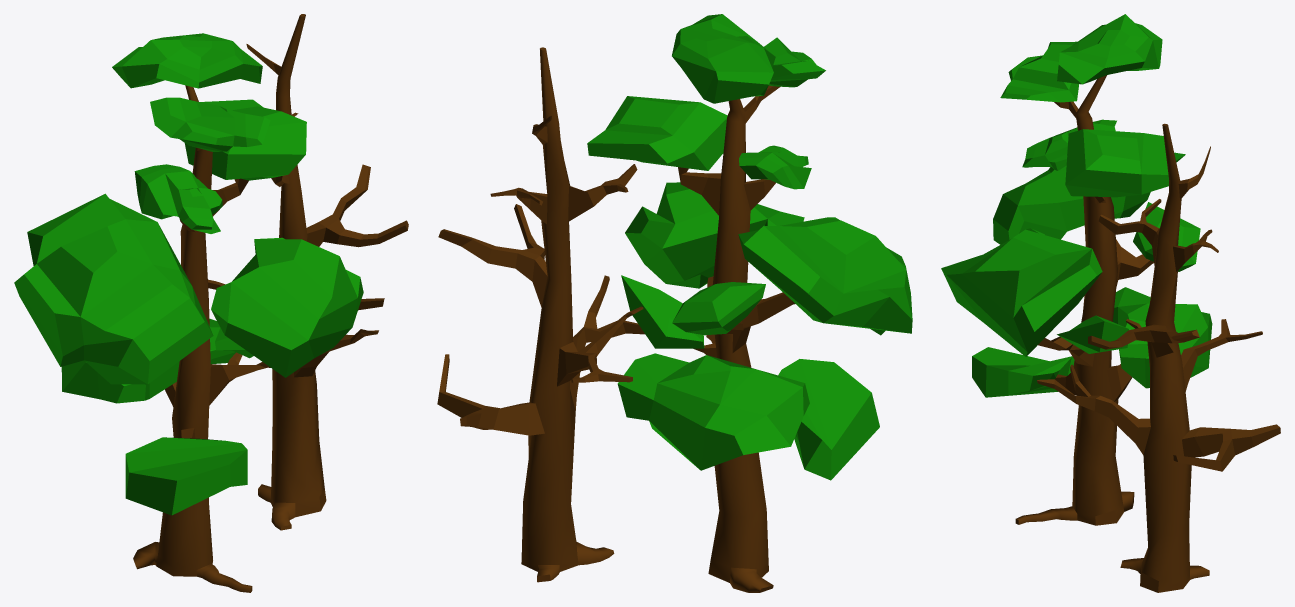
The model's file is baum_d006.FBX.
The picture shows the model from 3 angles, left to right: view 1: azimuth 30°, elevation 25°; view 2: azimuth 150°, elevation 25°; view 3: azimuth 270°, elevation 25°; orthographic projection. The views are drawn at different scales.
Parts seen in each view (by area): view 1: Baum_D006; view 2: Baum_D006; view 3: Baum_D006.
Boxes of the visible parts, x1,y1,x2,y2 form: Baum_D006: (14,14,408,592); Baum_D006: (437,14,912,592); Baum_D006: (941,14,1280,592).
Size of the model in its own units: 46.15 by 57.76 by 36.29.
